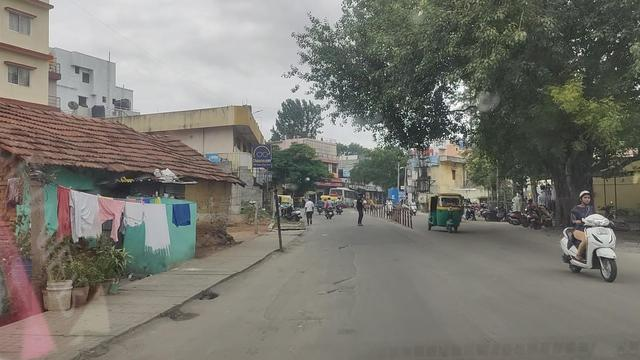RoadDamages: (260, 282, 288, 328), (316, 275, 361, 299), (335, 240, 358, 270), (164, 309, 199, 326), (293, 317, 335, 328), (196, 290, 222, 301)
